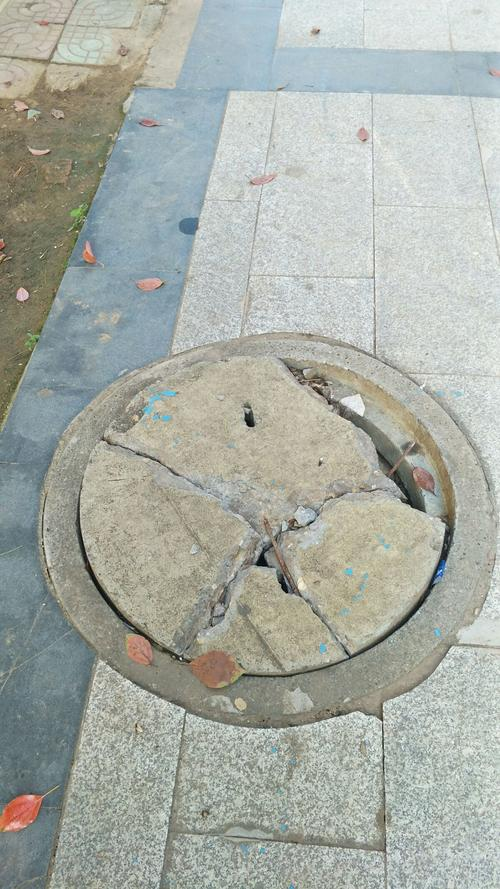broke: (33, 324, 497, 735)
